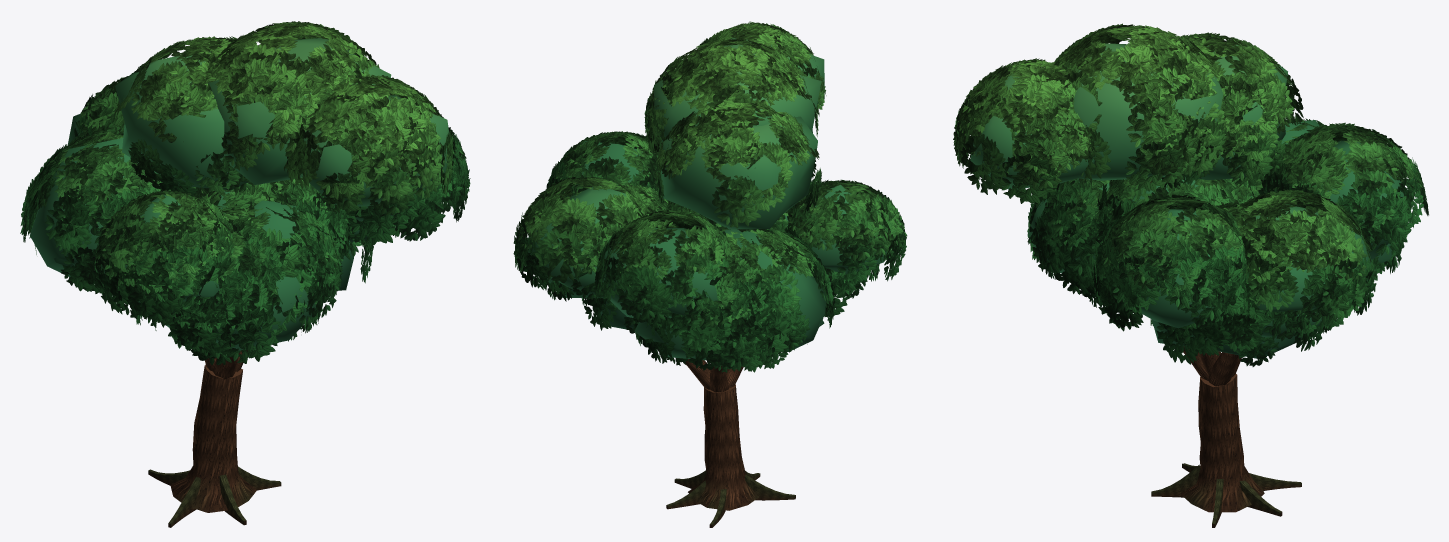
File: old_tree_2.gltf
3 views of the same model, side by side, from view 1: azimuth 30°, elevation 25°; view 2: azimuth 150°, elevation 25°; view 3: azimuth 270°, elevation 25° (orthographic). The views are drawn at different scales.
Parts seen in each view (by area): view 1: LeafCards, LeafMass, Bark; view 2: LeafCards, LeafMass, Bark; view 3: LeafCards, LeafMass, Bark.
Boxes of the visible parts, x1,y1,x2,y2 form: LeafCards: [20, 21, 470, 365]; LeafMass: [30, 38, 454, 350]; Bark: [148, 350, 281, 527]; LeafCards: [513, 21, 907, 372]; LeafMass: [527, 33, 886, 360]; Bark: [666, 359, 795, 527]; LeafCards: [953, 23, 1428, 366]; LeafMass: [970, 42, 1403, 358]; Bark: [1145, 181, 1301, 527].
Size of what is drawn, in the model's own units: 12.82 by 15.33 by 13.95.
3 materials, 2 textured.
